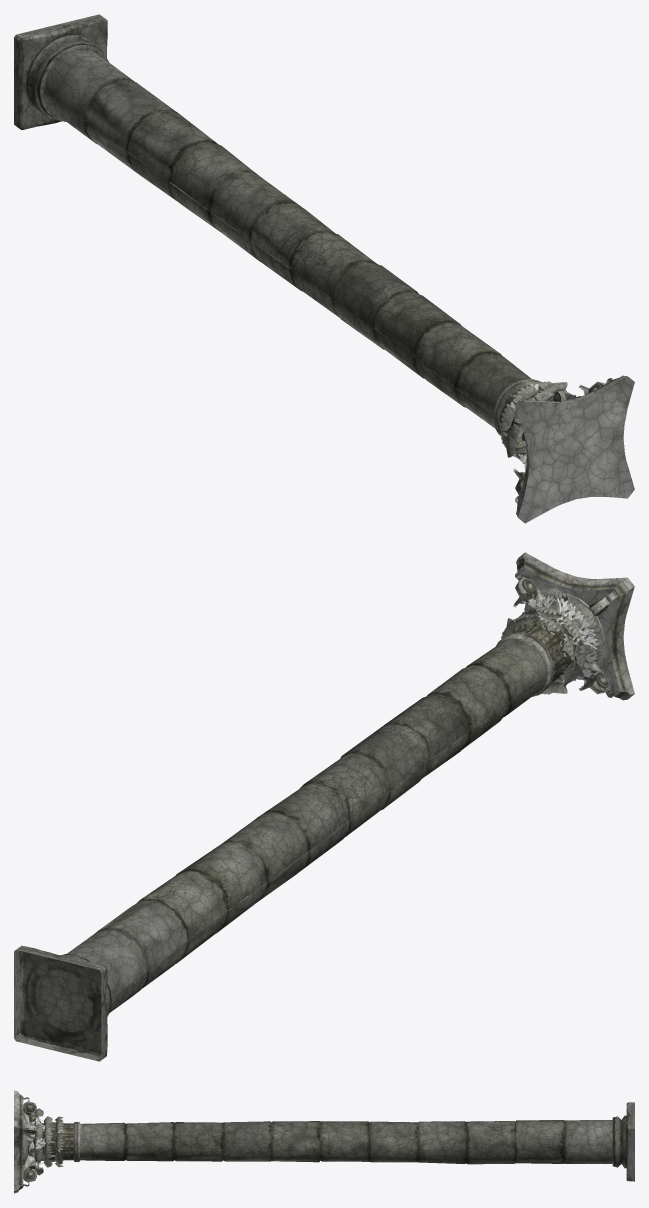
File: corinthian_column_nickhavas.glb
The picture shows the model from 3 angles, top to bottom: view 1: azimuth 30°, elevation 25°; view 2: azimuth 150°, elevation 25°; view 3: azimuth 270°, elevation 25°; orthographic projection. The views are drawn at different scales.
Parts seen in each view (by area): view 1: Object_2; view 2: Object_2; view 3: Object_2.
Boxes of the visible parts, bbox=[...] form: Object_2: bbox=[14, 14, 634, 523]; Object_2: bbox=[14, 552, 634, 1061]; Object_2: bbox=[14, 1090, 634, 1193].
Size of the model in its own units: 9.7 by 9.7 by 74.57.
2 materials, 2 textured.
